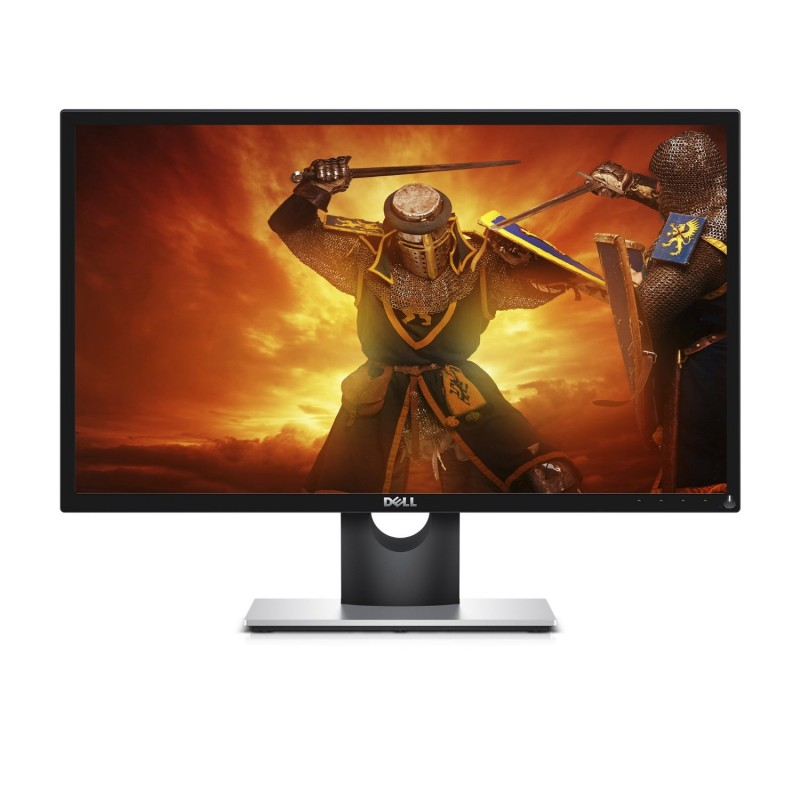dell-monitor-D1918H: (63, 101, 748, 629)
